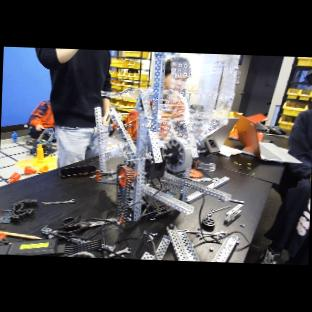Robot: (94, 52, 239, 224)
